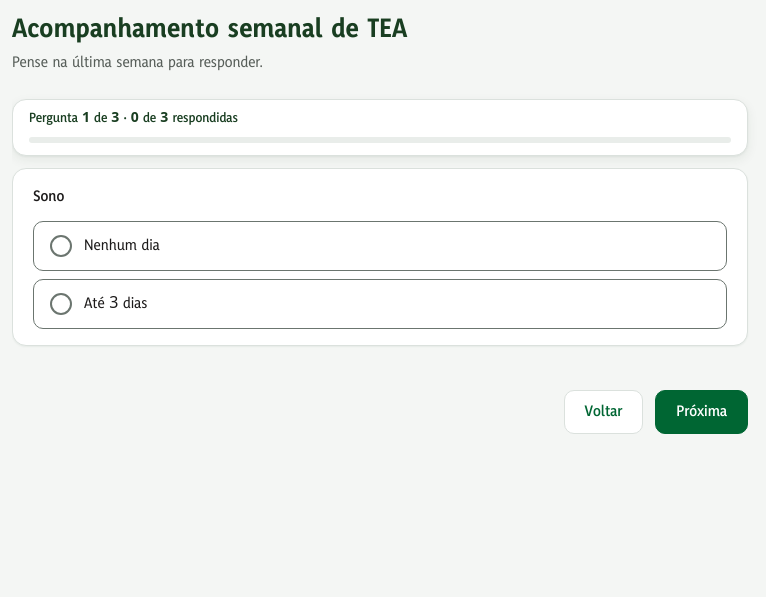
Test case: Escala no celular, uma pergunta por tela › mostra uma pergunta por vez, com Anterior e Proxima, e o salvar so na ultima
Check: the element "Sono" is shown, box [33,185,727,329]
Check: the element "Apetite" is not shown
Click the radio button labelled "Até 3 dias". click: coordinates (380, 304)
box: [33,279,727,329]
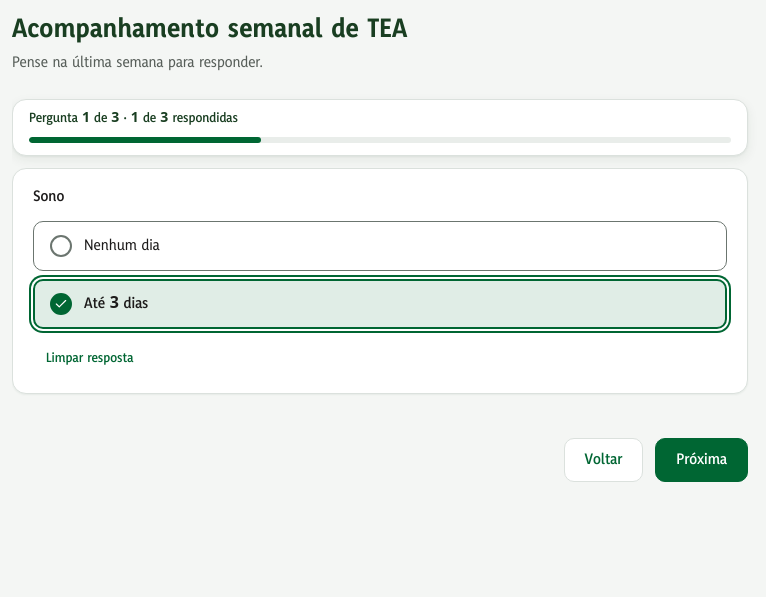
Click the button "Próxima". click: coordinates (702, 460)
box: [655,438,748,482]
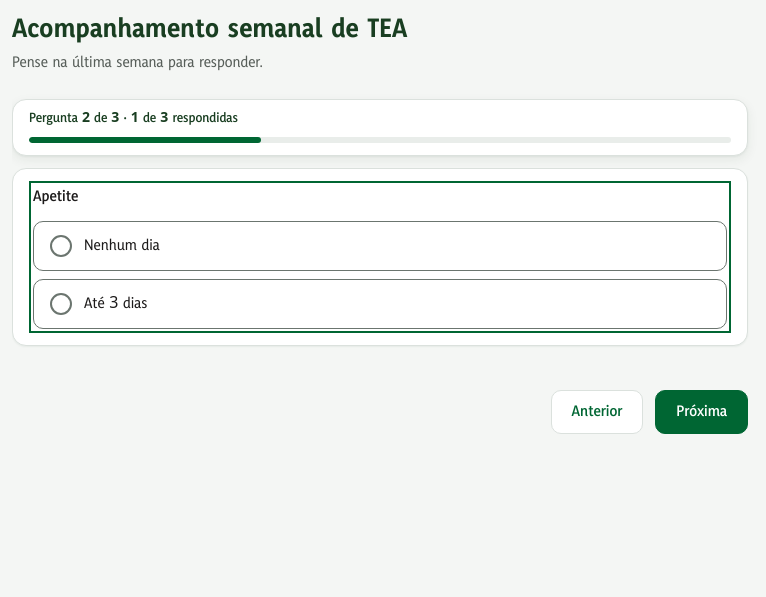
Check: the text "Sono" is gone
Check: the message reads "Pergunta 2 de 3 · 1 de 3 respondidas", box [29,109,238,127]
Click the button "Próxima". click: coordinates (702, 412)
box: [655,390,748,434]
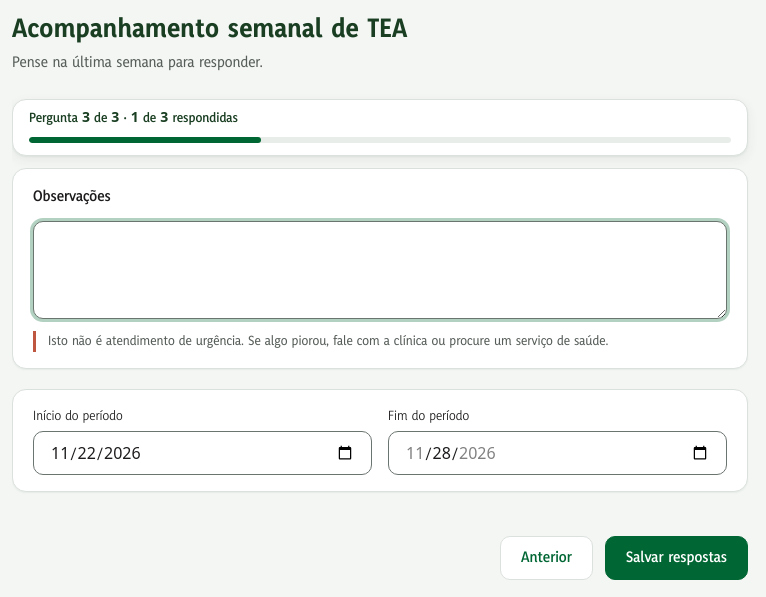
Check: the button "Próxima" is gone
Check: the button "Salvar respostas" is shown, box [605,536,748,580]
Note: voltar uma pergunta mostra a resposta q ja estava
Click the button "Anterior". click: coordinates (546, 558)
box: [500,536,593,580]
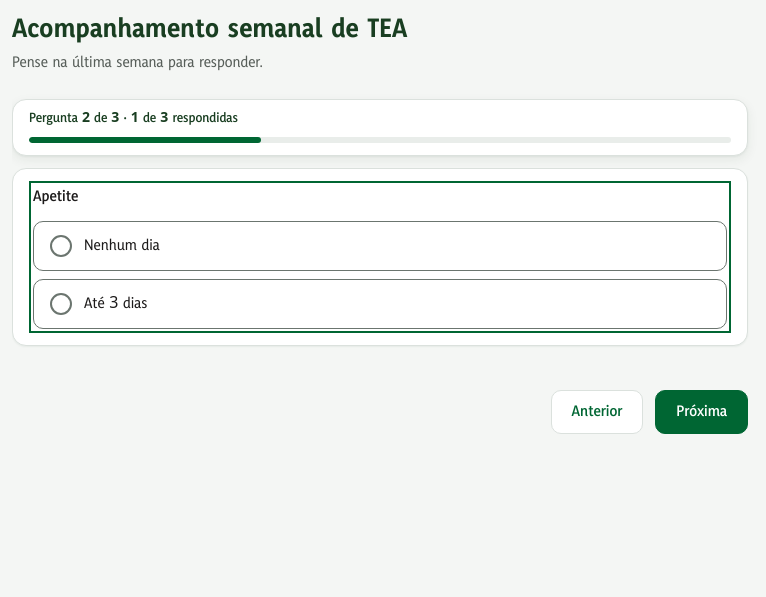
Click the button "Anterior". click: coordinates (597, 412)
box: [550,390,643,434]
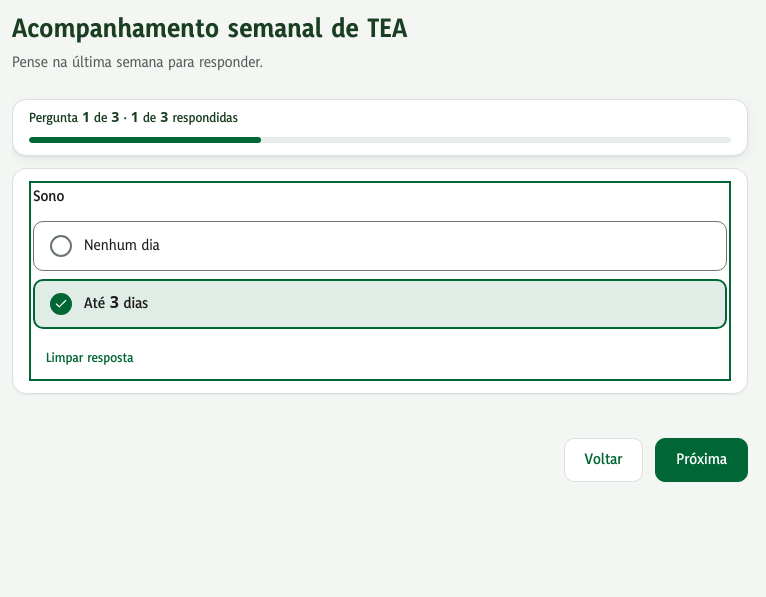
Check: the radio button labelled "Até 3 dias" is checked, box [33,279,727,329]
Check: the message shows "Pergunta 1 de 3", box [29,109,238,127]
